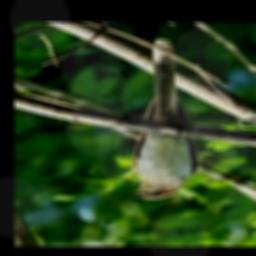Cuckoo: (119, 41, 198, 199)
